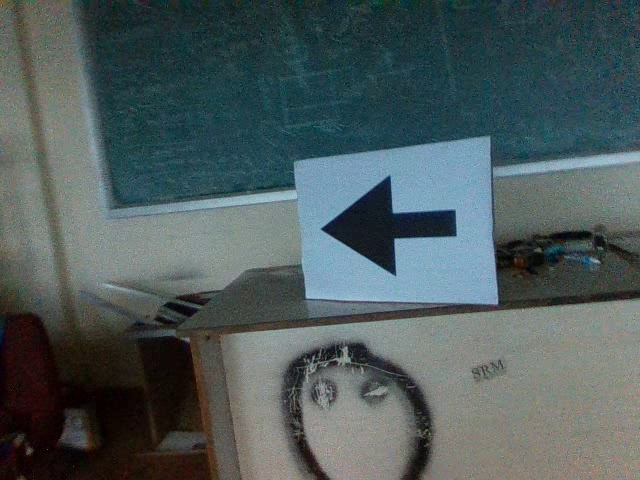Left: (315, 171, 462, 281)
